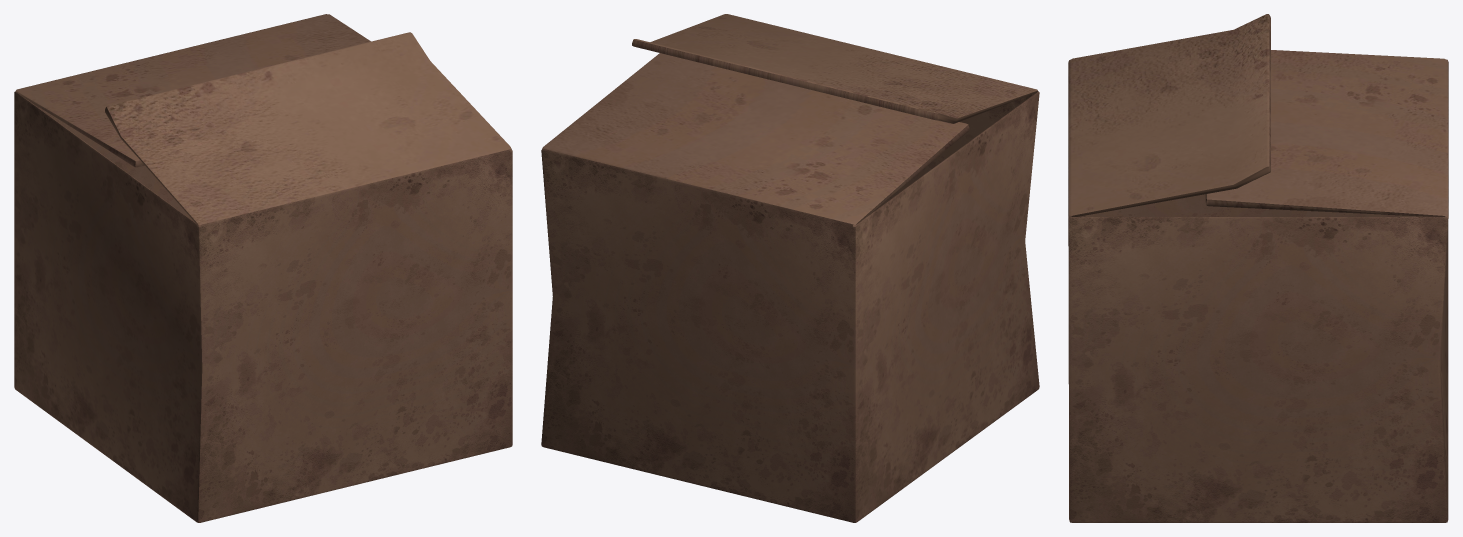
3 views of the same model, side by side, from view 1: azimuth 30°, elevation 25°; view 2: azimuth 150°, elevation 25°; view 3: azimuth 270°, elevation 25° (orthographic). The views are drawn at different scales.
Parts seen in each view (by area): view 1: Box003; view 2: Box003; view 3: Box003.
Part boxes in pixels (x1,y1,x2,y2): Box003: (14, 14, 512, 522); Box003: (541, 14, 1039, 522); Box003: (1068, 14, 1448, 522).
Size of the model in its own units: 20.11 by 21.04 by 20.43.
